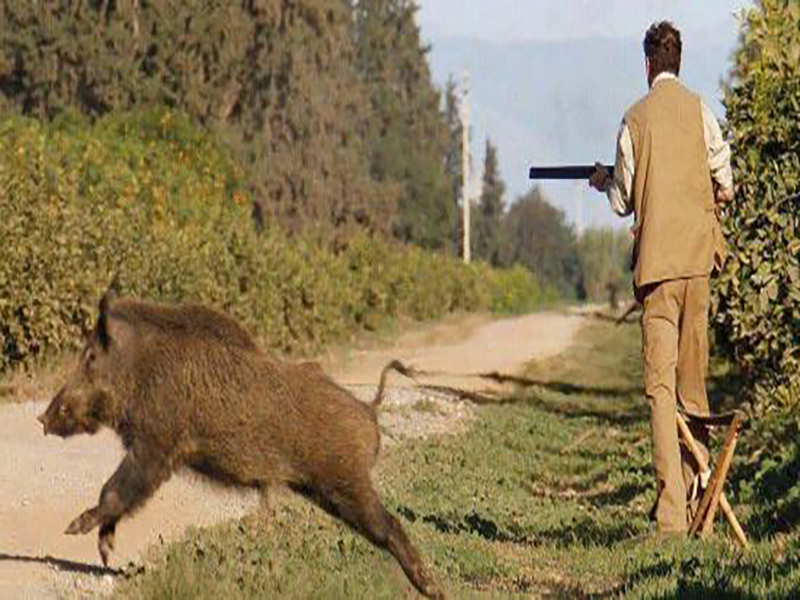cacciatore: (533, 22, 713, 545)
cinghiale: (45, 281, 462, 596)
fucile: (515, 154, 633, 183)
